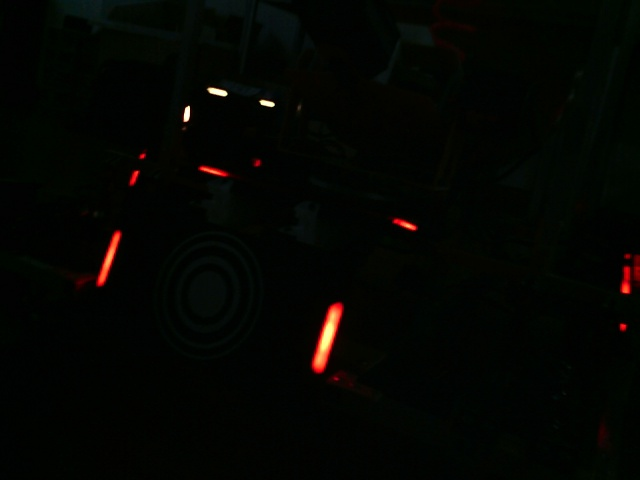lamp: (310, 300, 347, 373), (90, 228, 124, 289)
